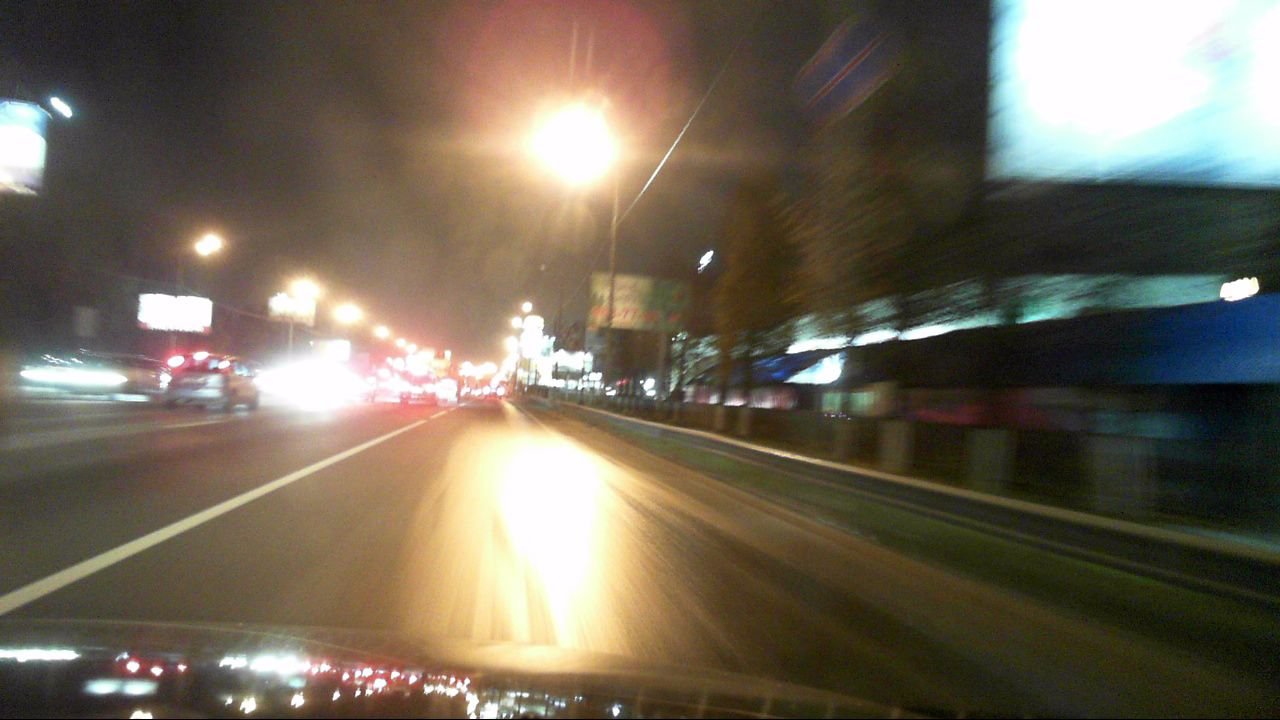No Parking: (826, 19, 896, 91)
